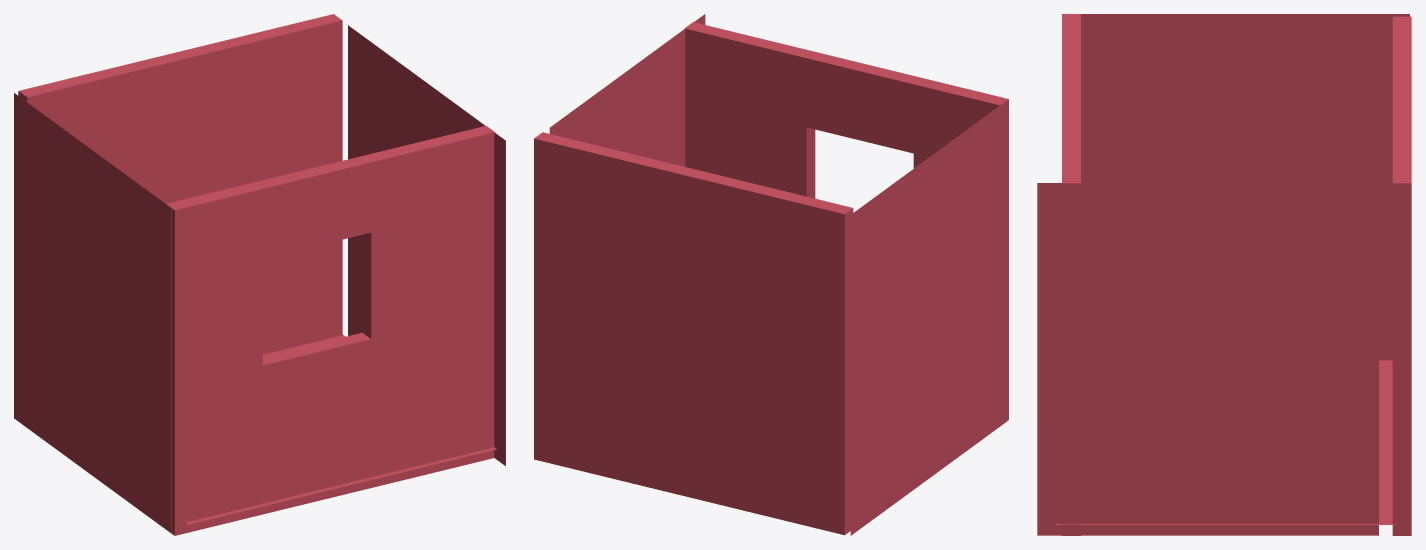
File: Windowless_Room.glb
3 renders of one model, left to right at view 1: azimuth 30°, elevation 25°; view 2: azimuth 150°, elevation 25°; view 3: azimuth 270°, elevation 25°, orthographic. The views are drawn at different scales.
Parts seen in each view (by area): view 1: Mesh_Mesh_head_geo.001_lambert2SG.001; view 2: Mesh_Mesh_head_geo.001_lambert2SG.001; view 3: Mesh_Mesh_head_geo.001_lambert2SG.001.
Part boxes in pixels (<box>): Mesh_Mesh_head_geo.001_lambert2SG.001: <box>14,14,505,535</box>; Mesh_Mesh_head_geo.001_lambert2SG.001: <box>534,14,1008,535</box>; Mesh_Mesh_head_geo.001_lambert2SG.001: <box>1037,14,1411,535</box>.
Bounding box in the file's own units: 0.2007 × 0.1943 × 0.1869.
